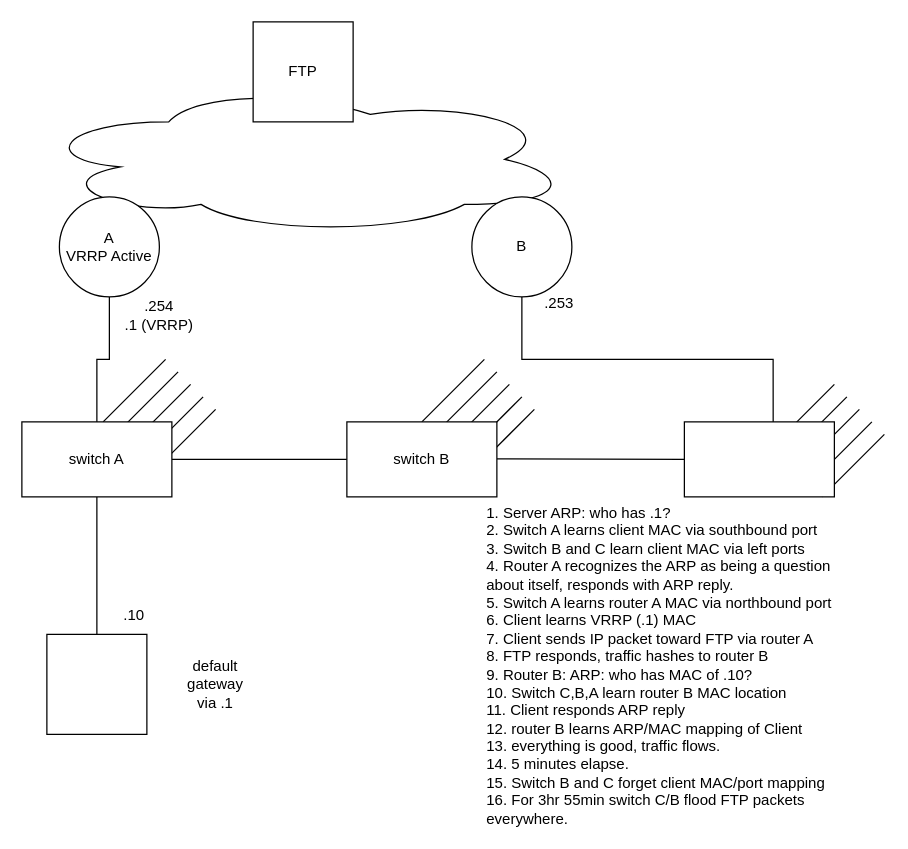
This 908x849 diagram has some shape labels left out. Here are the shapes that lost their labels. From the top down, the box of each, then its label:
(683, 421, 834, 497): switch C
(46, 633, 147, 734): Client
